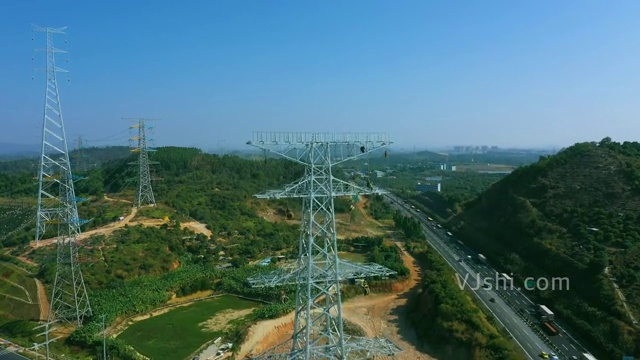tower_body: (241, 128, 404, 360), (25, 17, 83, 240)
tower_head: (244, 131, 400, 199), (25, 21, 70, 39)
